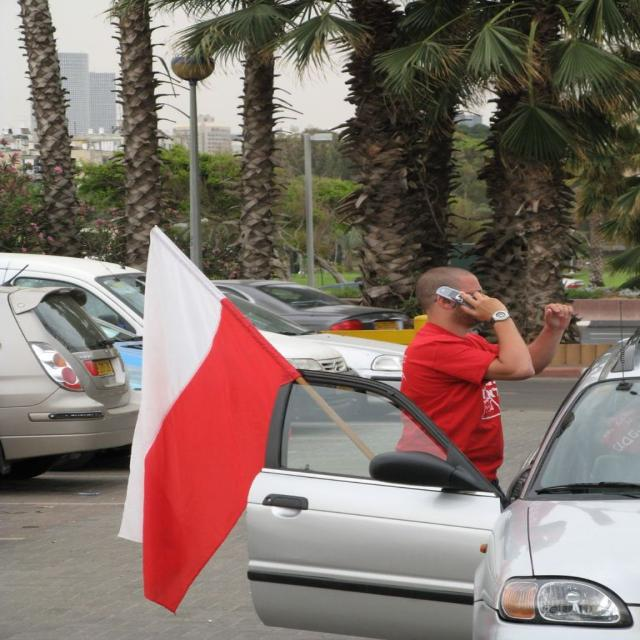car: (239, 367, 639, 637)
